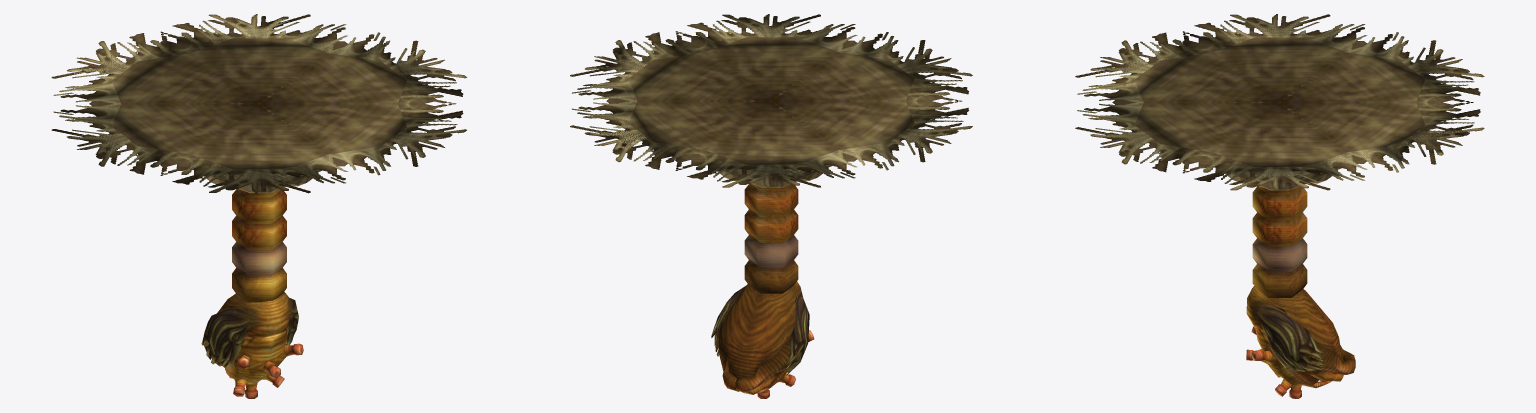
The model's file is abyssworm.obj.
3 renders of one model, left to right at view 1: azimuth 30°, elevation 25°; view 2: azimuth 150°, elevation 25°; view 3: azimuth 270°, elevation 25°, orthographic. The views are drawn at different scales.
Parts seen in each view (by area): view 1: rdmobj00, rdmobj02, rdmobj01, rdmobj03; view 2: rdmobj00, rdmobj01, rdmobj02, rdmobj03; view 3: rdmobj00, rdmobj02, rdmobj01, rdmobj03.
Part boxes in pixels (<box>): rdmobj00: <box>51,14,466,193</box>; rdmobj02: <box>232,189,303,398</box>; rdmobj01: <box>207,292,292,385</box>; rdmobj03: <box>201,298,298,378</box>; rdmobj00: <box>570,14,972,188</box>; rdmobj01: <box>718,281,800,394</box>; rdmobj02: <box>744,183,814,398</box>; rdmobj03: <box>711,286,809,393</box>; rdmobj00: <box>1075,14,1484,190</box>; rdmobj02: <box>1246,186,1307,398</box>; rdmobj01: <box>1246,286,1355,387</box>; rdmobj03: <box>1256,302,1331,388</box>.
Size of the model in its own units: 13233 by 10272 by 15281.
Materials: 4 (4 with a texture image).
